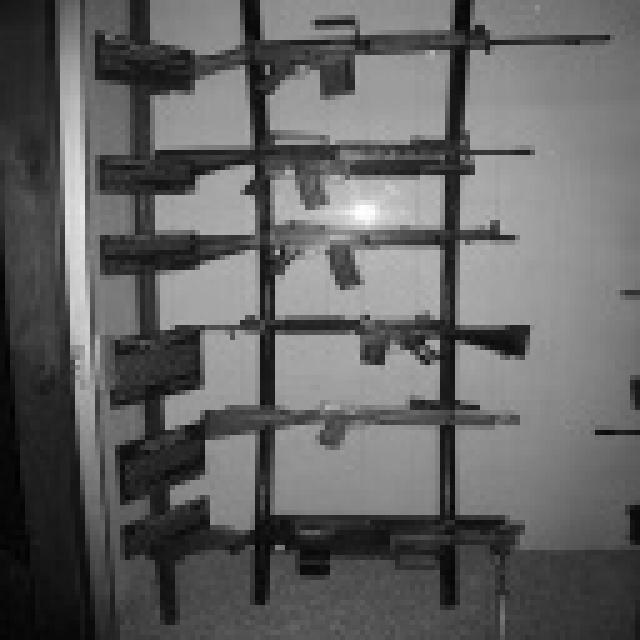Rifle: (70, 0, 640, 110), (66, 115, 557, 225), (57, 208, 539, 301), (215, 486, 558, 606), (145, 299, 559, 385), (148, 378, 532, 468)
